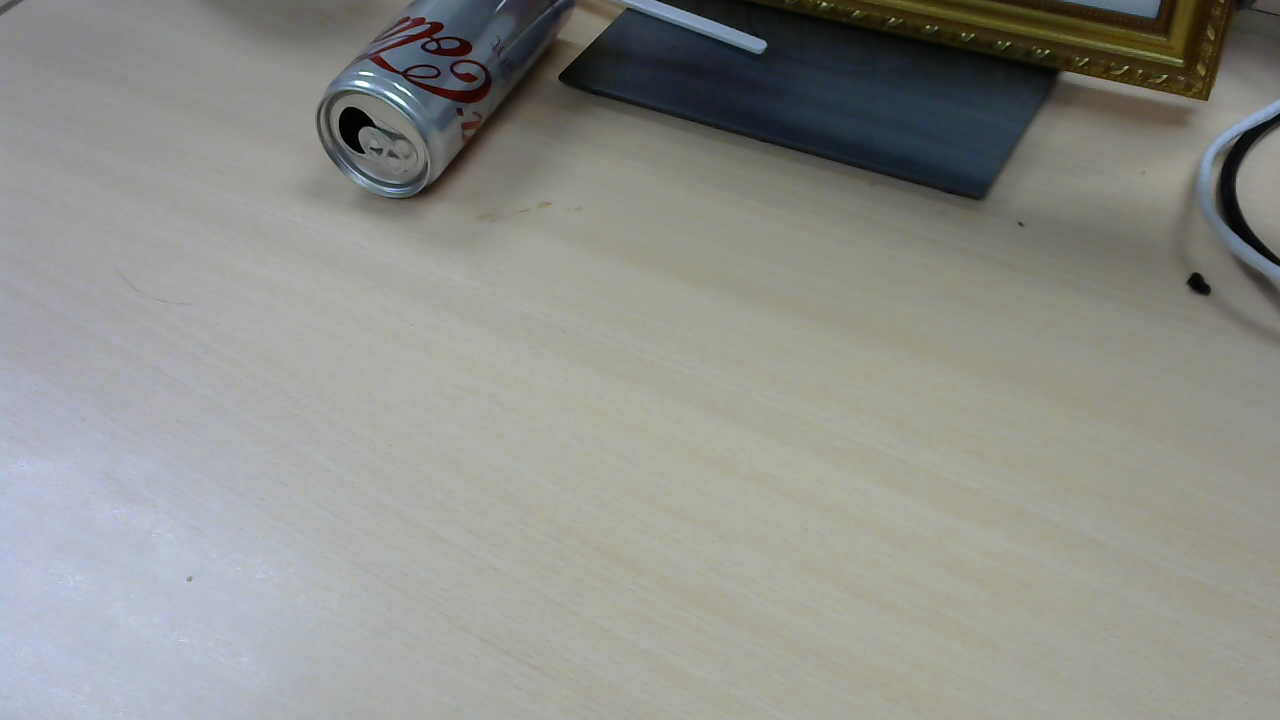Coca_Cola: (321, 6, 584, 206)
